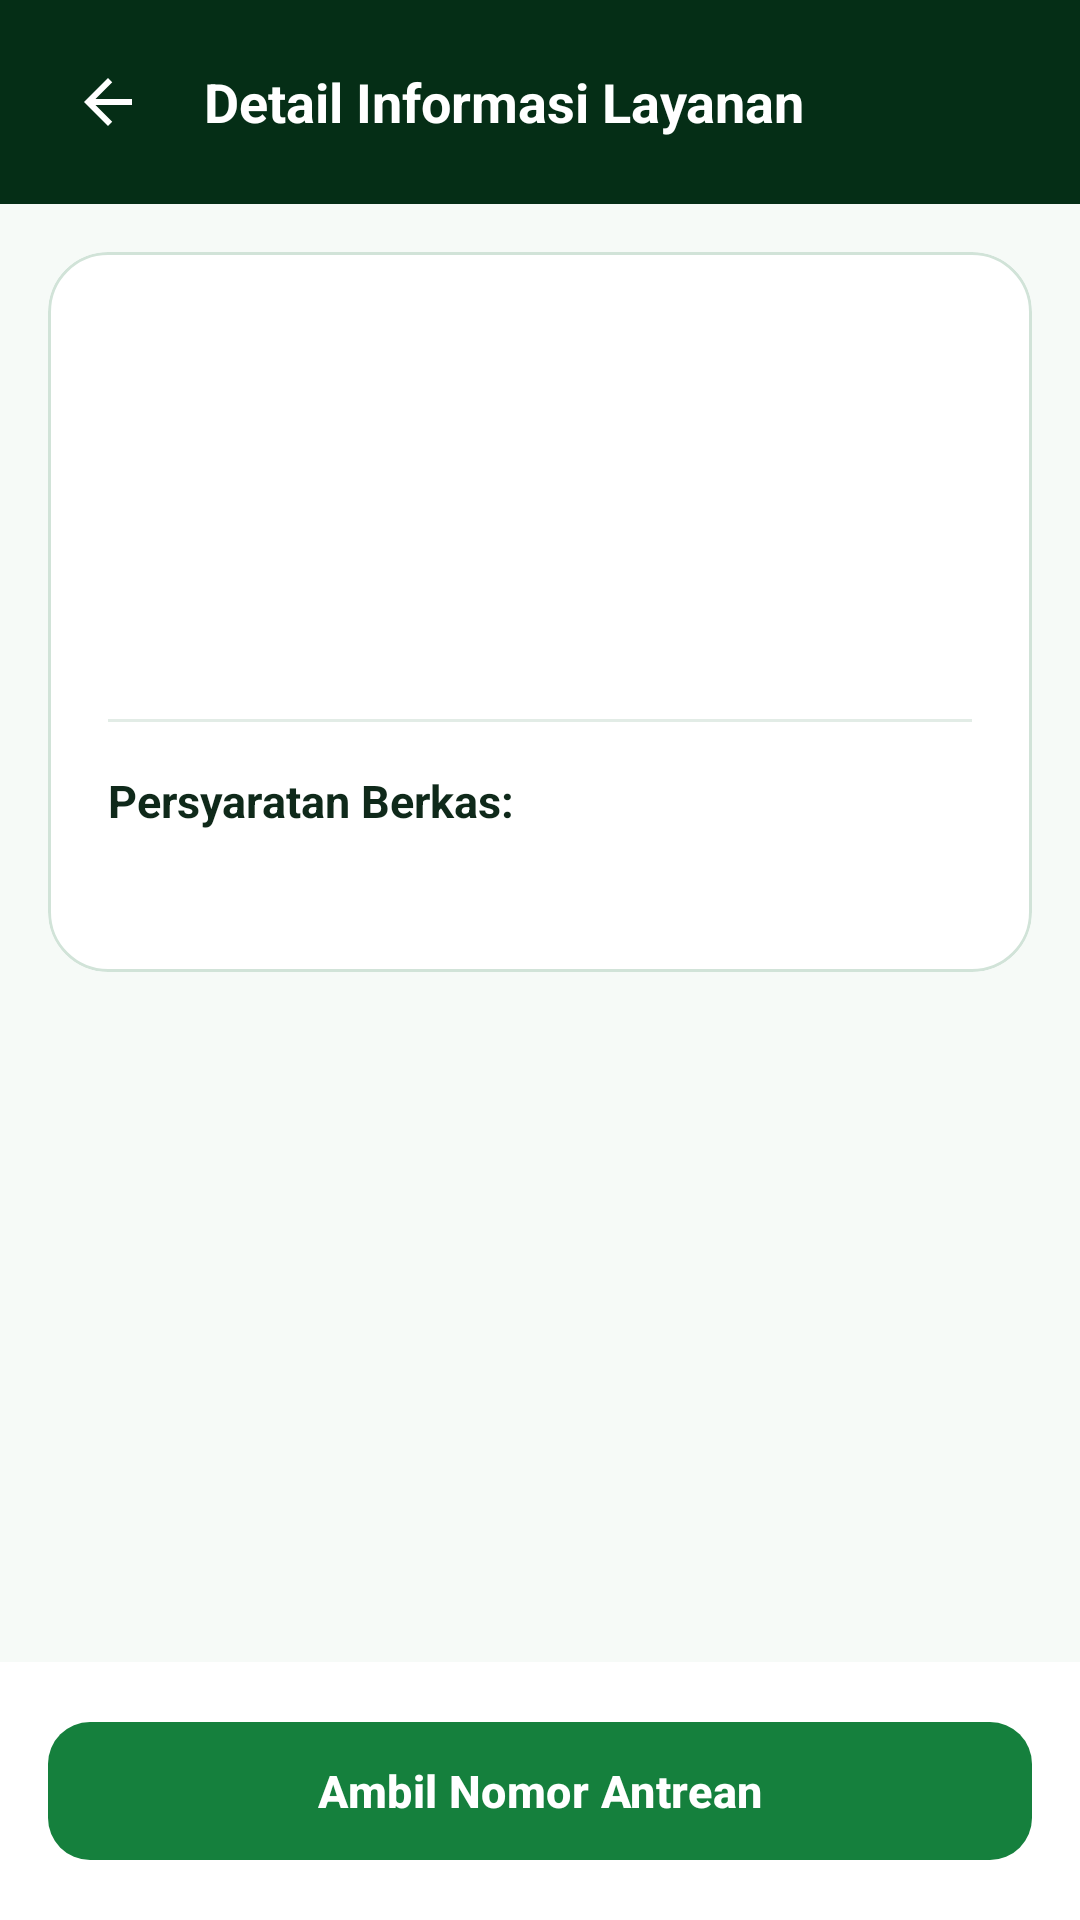

Point at icon controls on the screen. Image size 1080w x 1920h, points as [x,y].
Kembali ke Halaman Masuk: [108,102]
